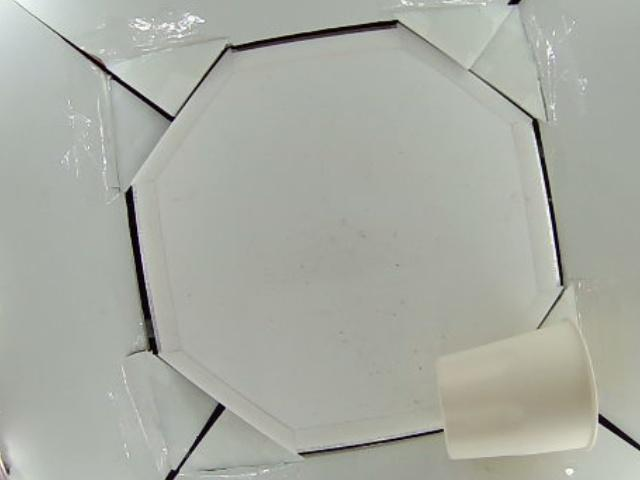Cup: (433, 319, 601, 459)
